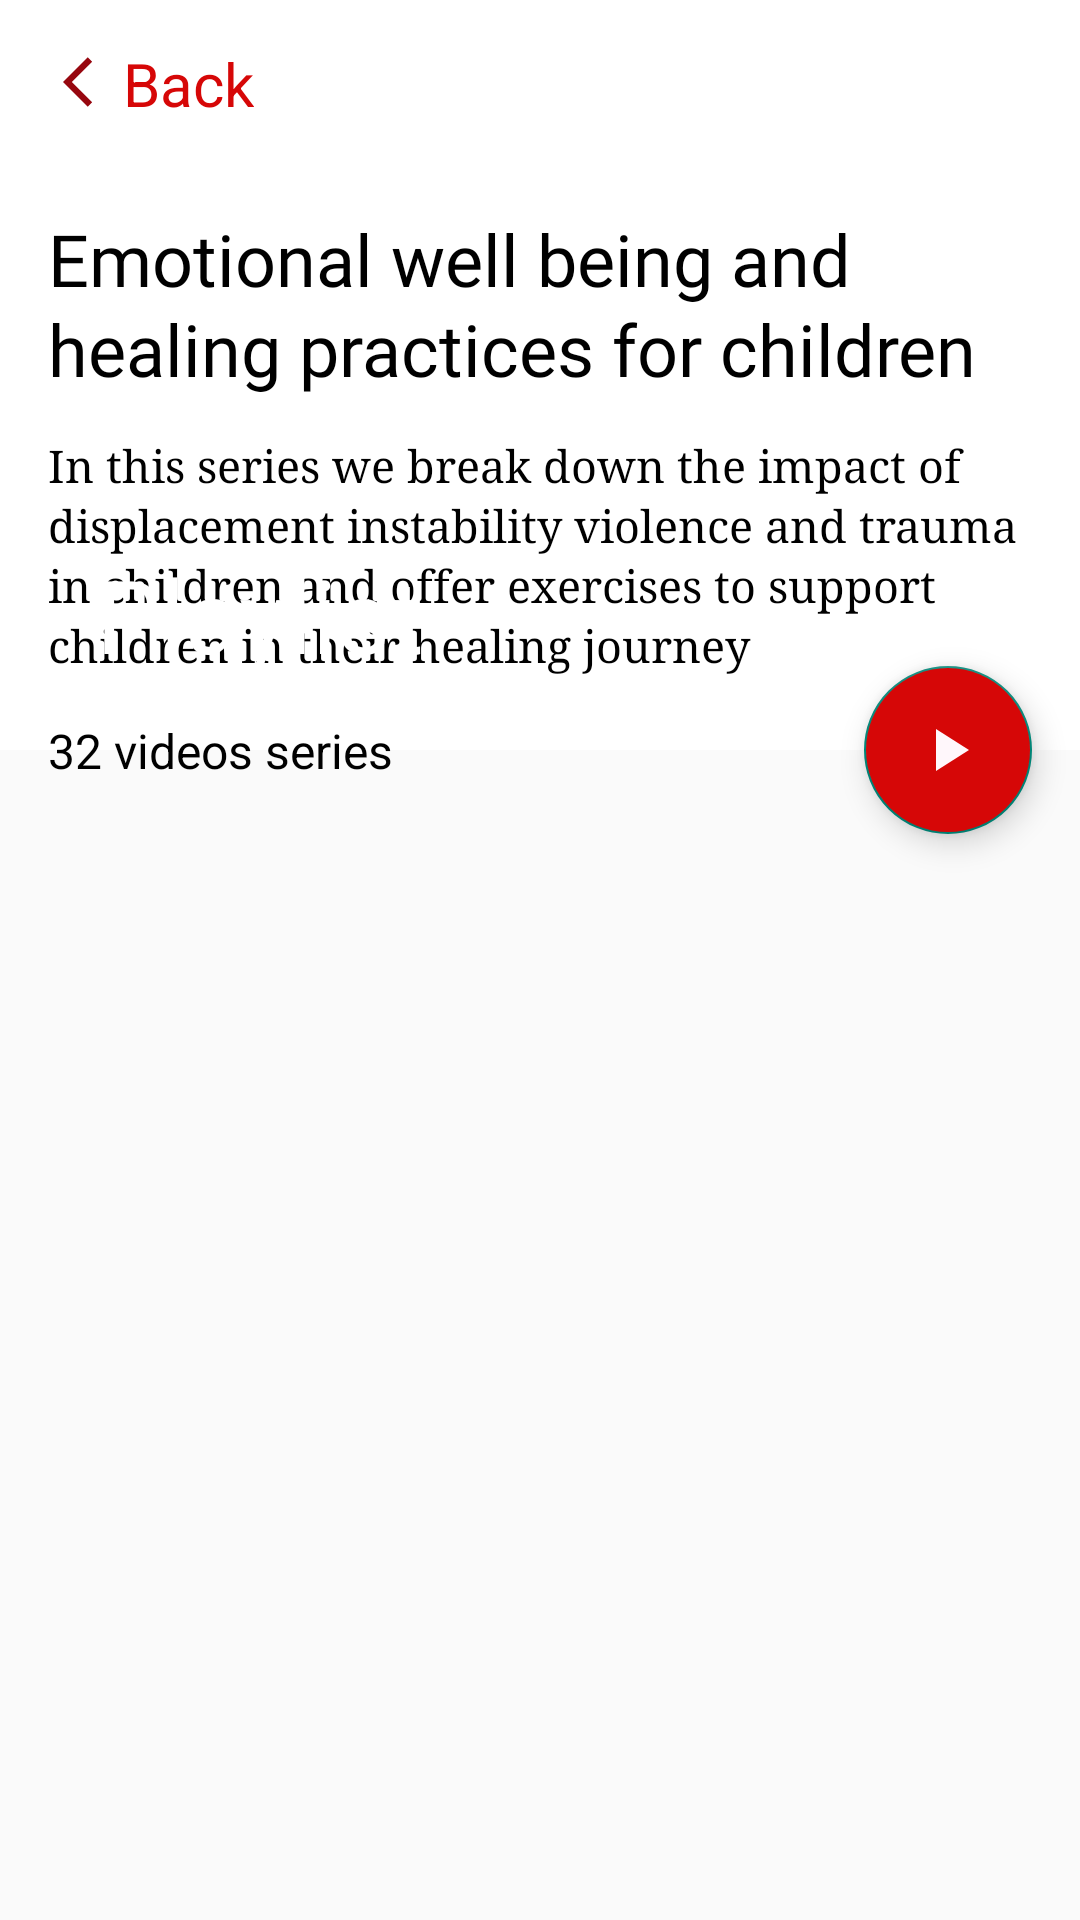

Icons on this 1080*1920 Android screen, each with the point to tap as (x,y):
play arrow: (948,750)
